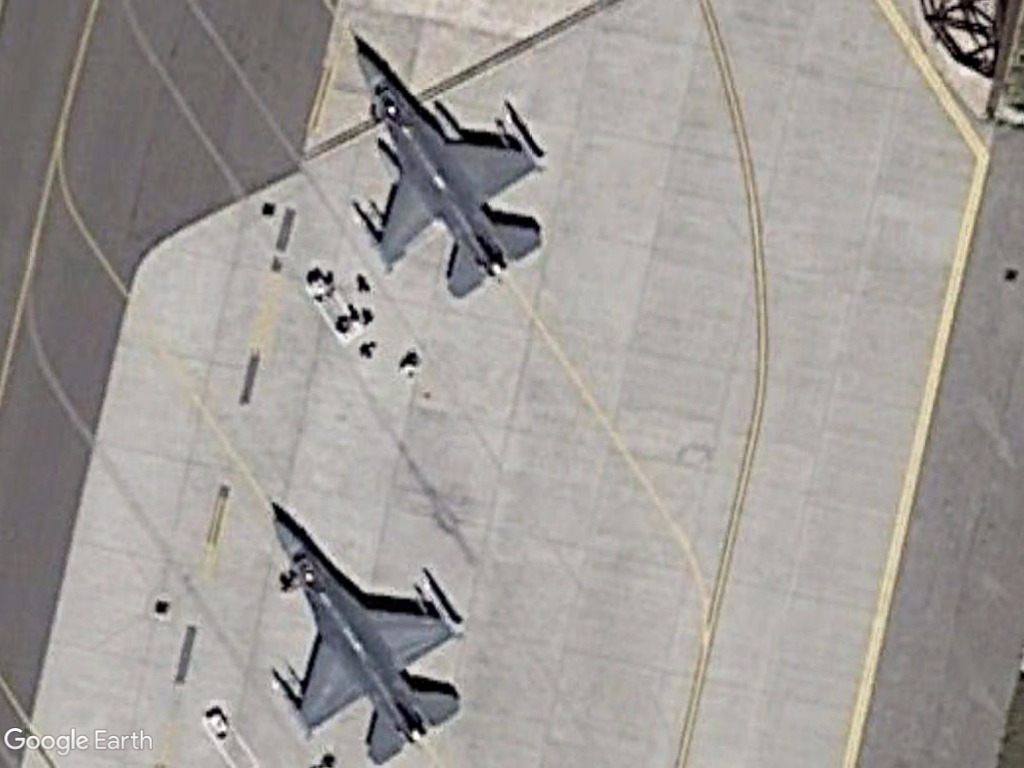fighter: (342, 34, 553, 305), (263, 503, 473, 768)
